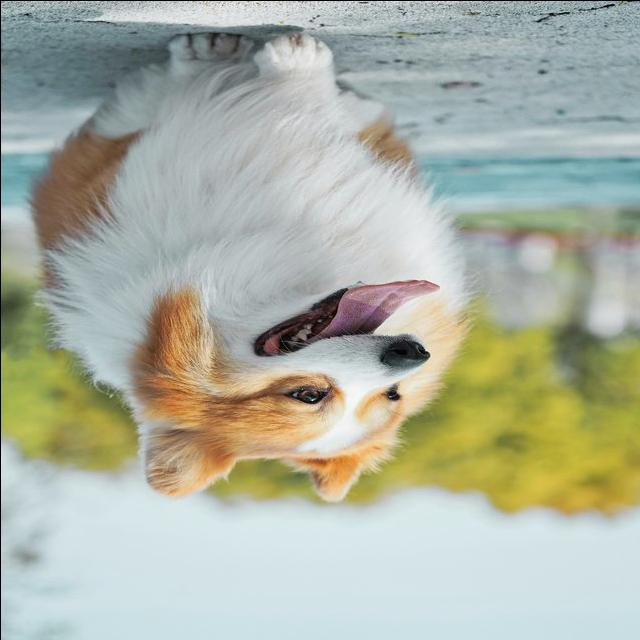corgi: (27, 30, 474, 503)
